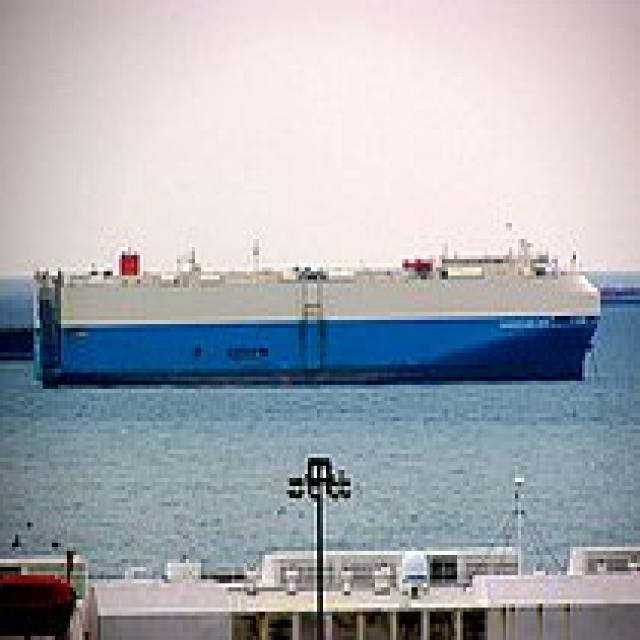Carrier: (24, 227, 600, 385)
